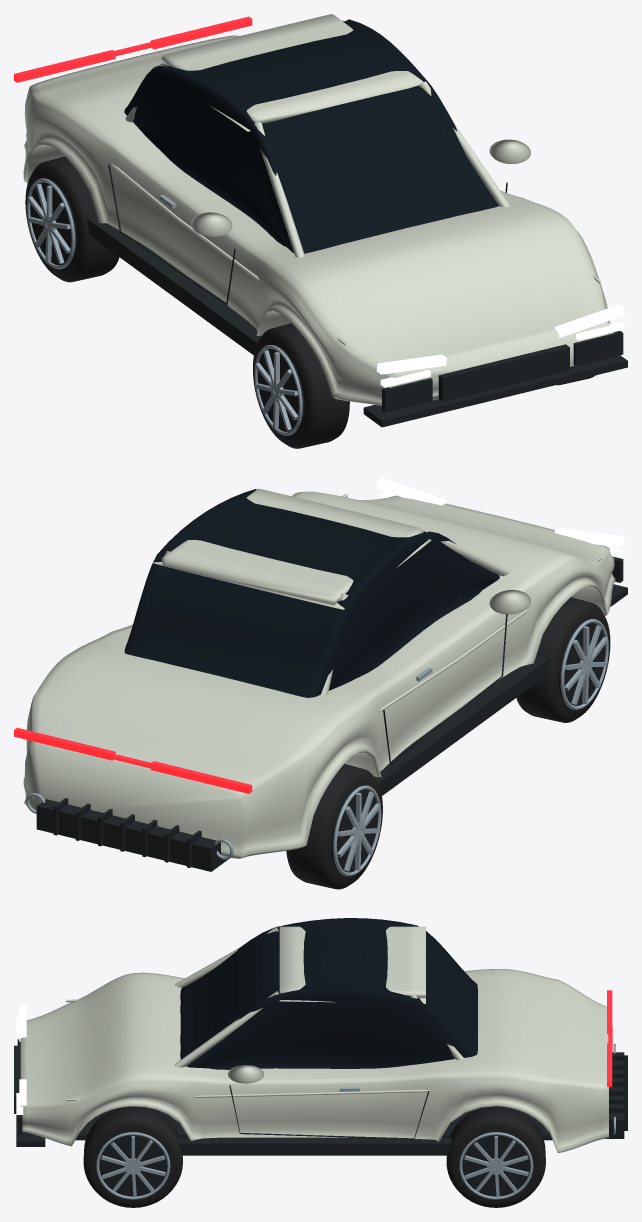
File: aeris-lod0.glb
The picture shows the model from 3 angles, top to bottom: view 1: azimuth 30°, elevation 25°; view 2: azimuth 150°, elevation 25°; view 3: azimuth 270°, elevation 25°; orthographic projection. The views are drawn at different scales.
Parts seen in each view (by area): view 1: coachwork_merged, cabin, undertray_merged, tire (×2), hub_merged (×2), rim_merged (×2), headlight_merged, tail-light_merged; view 2: coachwork_merged, cabin, undertray_merged, tire (×2), hub_merged (×2), rim_merged (×2), tail-light_merged, headlight_merged; view 3: coachwork_merged, cabin, undertray_merged, tire (×2), rim_merged (×2), hub_merged (×2), headlight_merged, tail-light_merged.
Part boxes in pixels (x1,y1,x2,y2): coachwork_merged: [23, 14, 613, 405]; cabin: [124, 19, 499, 253]; undertray_merged: [86, 164, 627, 427]; tire (×2): [25, 156, 349, 448]; hub_merged (×2): [27, 178, 302, 435]; rim_merged (×2): [30, 178, 304, 433]; headlight_merged: [376, 304, 624, 387]; tail-light_merged: [14, 16, 252, 82]; coachwork_merged: [23, 488, 615, 858]; cabin: [124, 489, 499, 697]; undertray_merged: [36, 556, 627, 871]; tire (×2): [286, 597, 610, 889]; hub_merged (×2): [333, 619, 608, 876]; rim_merged (×2): [331, 619, 605, 874]; tail-light_merged: [14, 727, 252, 793]; headlight_merged: [376, 477, 624, 557]; coachwork_merged: [20, 926, 608, 1153]; cabin: [180, 918, 477, 1069]; undertray_merged: [14, 1039, 627, 1155]; tire (×2): [83, 1106, 545, 1207]; rim_merged (×2): [99, 1131, 530, 1196]; hub_merged (×2): [96, 1132, 533, 1199]; headlight_merged: [16, 1005, 26, 1114]; tail-light_merged: [607, 990, 612, 1086].
Bounding box in the file's own units: 2.1 × 1.49 × 4.2.
